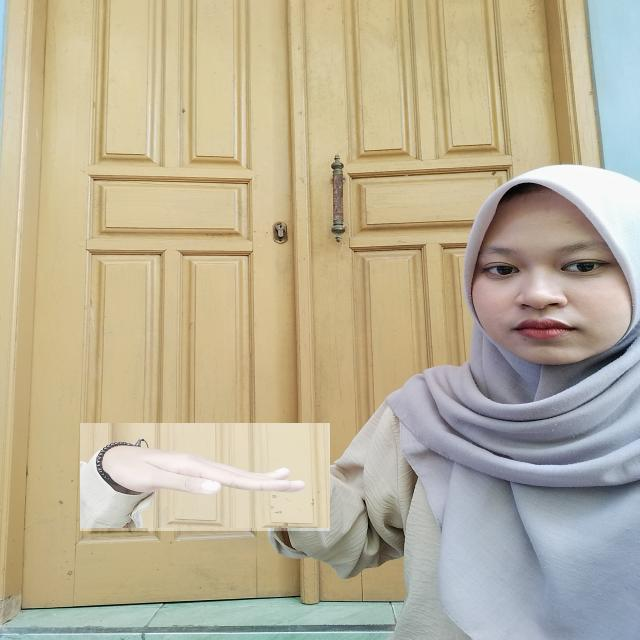adik: (80, 424, 330, 532)
